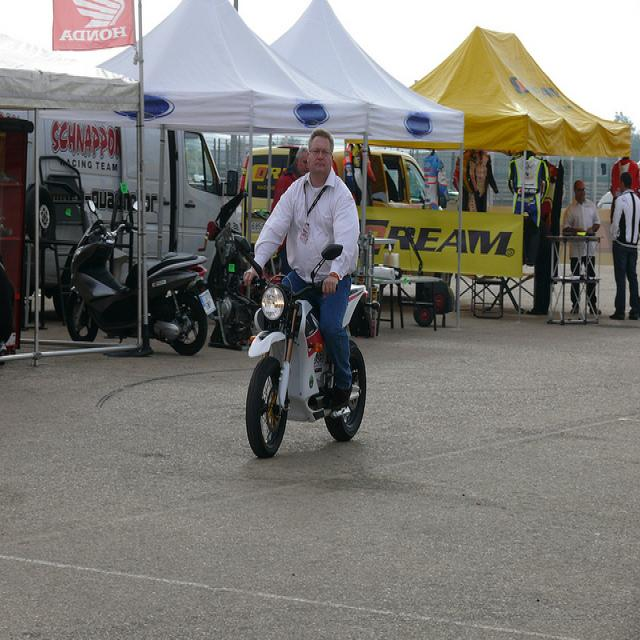motor: (237, 245, 377, 457), (68, 200, 217, 359), (196, 187, 252, 347)
